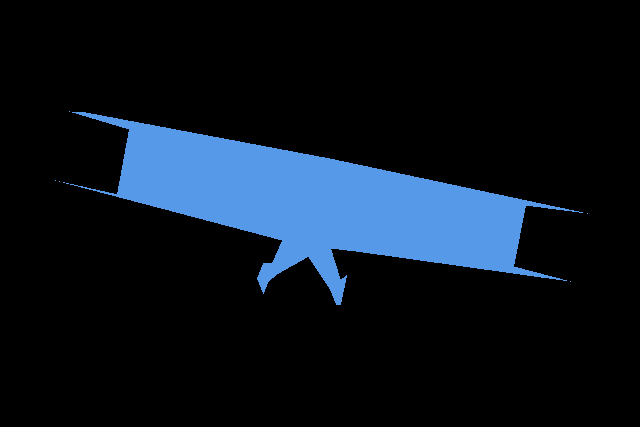Airplane: (55, 111, 588, 305)
